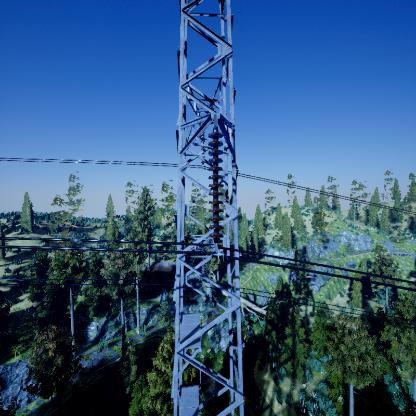insulator: (205, 129, 227, 245)
